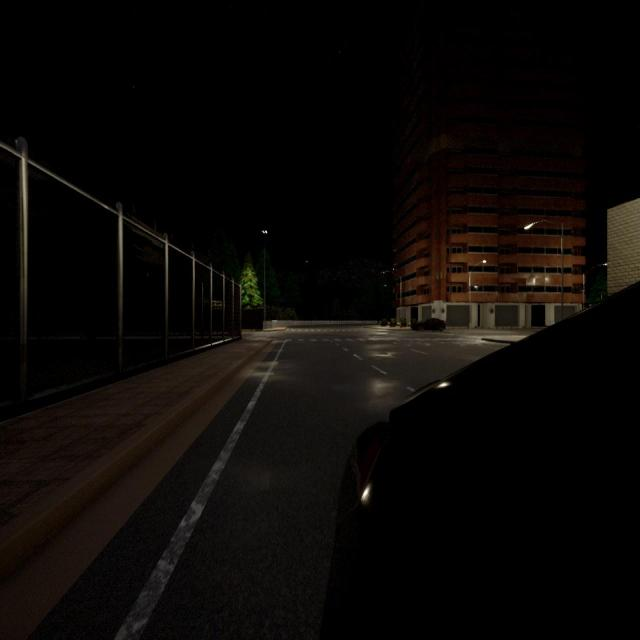Vehicle: (321, 284, 640, 640), (412, 318, 446, 332)
